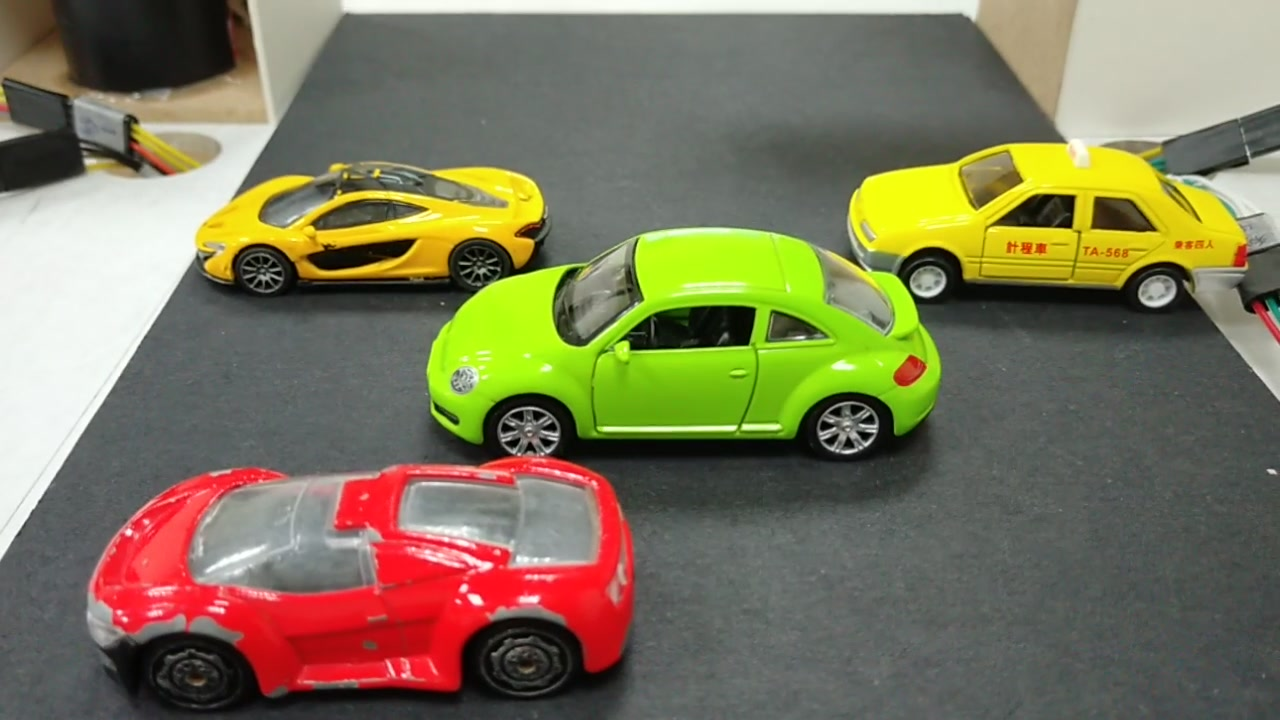car: (85, 467, 634, 710), (440, 247, 932, 454), (846, 144, 1246, 302), (195, 175, 546, 283)
